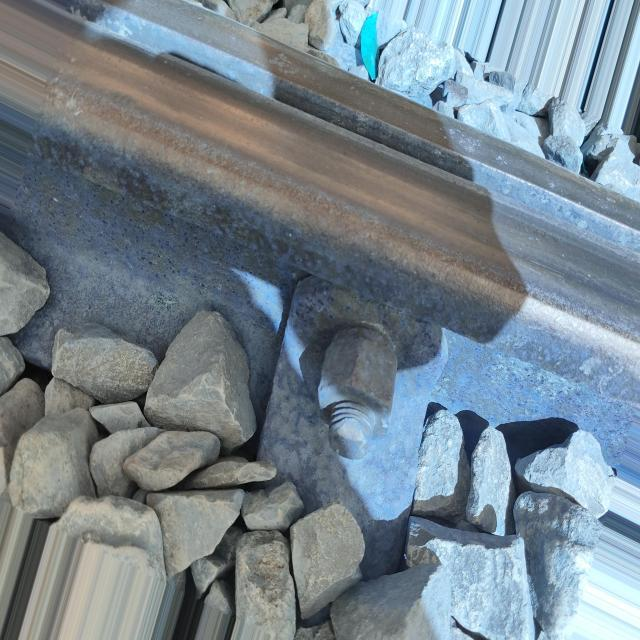Good Fasteners: (242, 295, 460, 547)
